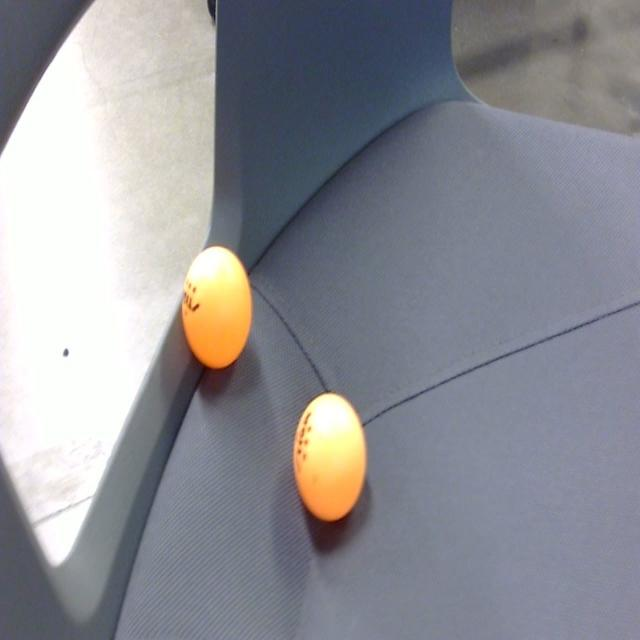ball: (292, 390, 368, 528), (180, 241, 254, 374)
